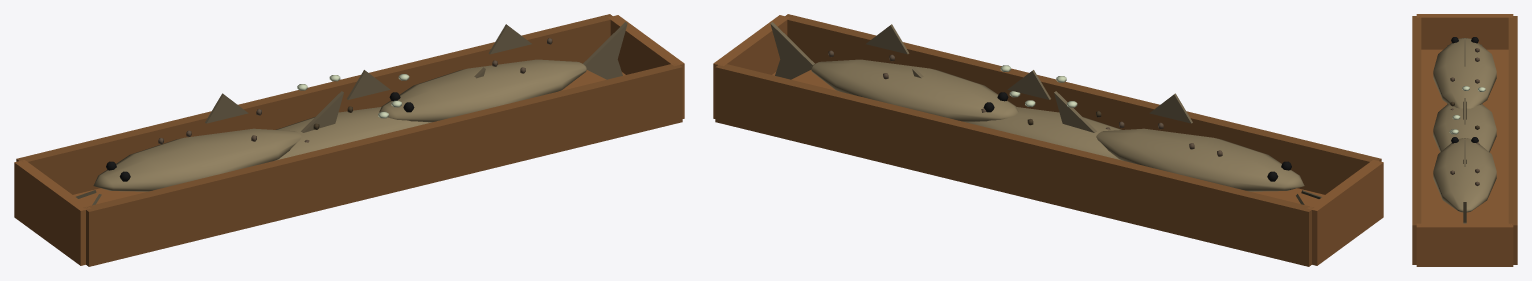
The model's file is Fish_Cod.fbx.
3 views of the same model, side by side, from view 1: azimuth 30°, elevation 25°; view 2: azimuth 150°, elevation 25°; view 3: azimuth 270°, elevation 25° (orthographic). The views are drawn at different scales.
Parts seen in each view (by area): view 1: Fish_Cod__Stack, Fish_Cod, Fish_Cod__Rotten; view 2: Fish_Cod__Stack, Fish_Cod, Fish_Cod__Rotten; view 3: Fish_Cod__Stack, Fish_Cod, Fish_Cod__Rotten.
Part boxes in pixels (bbox=[...]): Fish_Cod__Stack: bbox=[14, 14, 684, 266]; Fish_Cod: bbox=[275, 67, 485, 160]; Fish_Cod__Rotten: bbox=[297, 74, 409, 129]; Fish_Cod__Stack: bbox=[713, 14, 1383, 266]; Fish_Cod: bbox=[912, 67, 1122, 160]; Fish_Cod__Rotten: bbox=[1000, 65, 1101, 125]; Fish_Cod__Stack: bbox=[1412, 14, 1517, 266]; Fish_Cod: bbox=[1433, 98, 1496, 163]; Fish_Cod__Rotten: bbox=[1449, 86, 1485, 134].
Size of the model in its own units: 0.4599 by 0.0764 by 0.0958.
